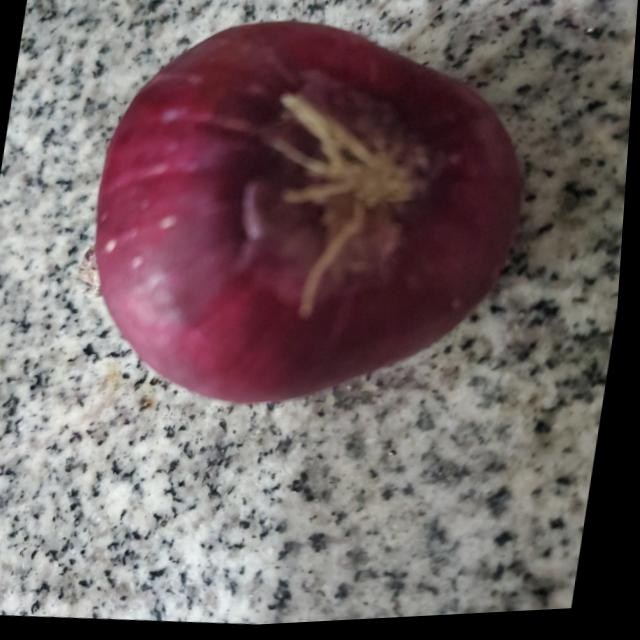onion: (69, 0, 552, 431)
